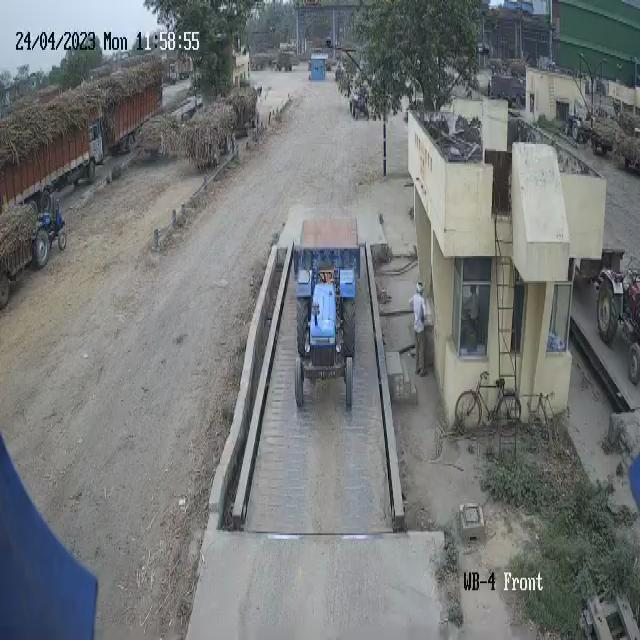Tratores - v5 YOLO V8L 2024-11-13: (292, 254, 360, 420), (32, 196, 72, 266)
